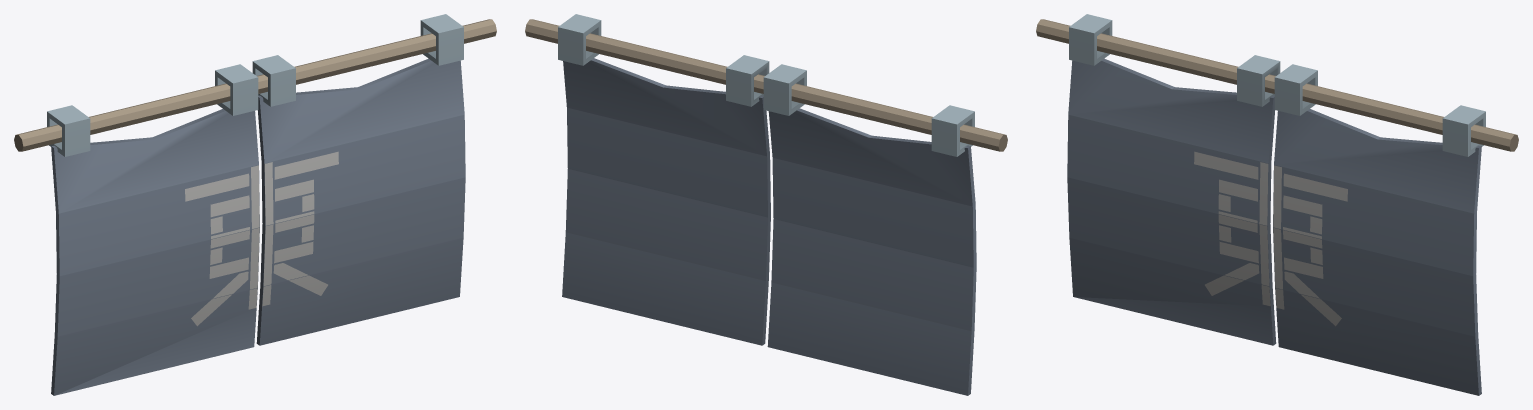
File: noren.glb
The picture shows the model from 3 angles, left to right: view 1: azimuth 30°, elevation 25°; view 2: azimuth 150°, elevation 25°; view 3: azimuth 330°, elevation 25°; orthographic projection.
Visible parts, largest first — view 1: noren; view 2: noren; view 3: noren.
Boxes of the visible parts, x1,y1,x2,y2 form: noren: (14, 14, 496, 395); noren: (525, 14, 1007, 395); noren: (1036, 14, 1518, 395).
Size of the model in its own units: 1.4 by 0.78 by 0.092.
